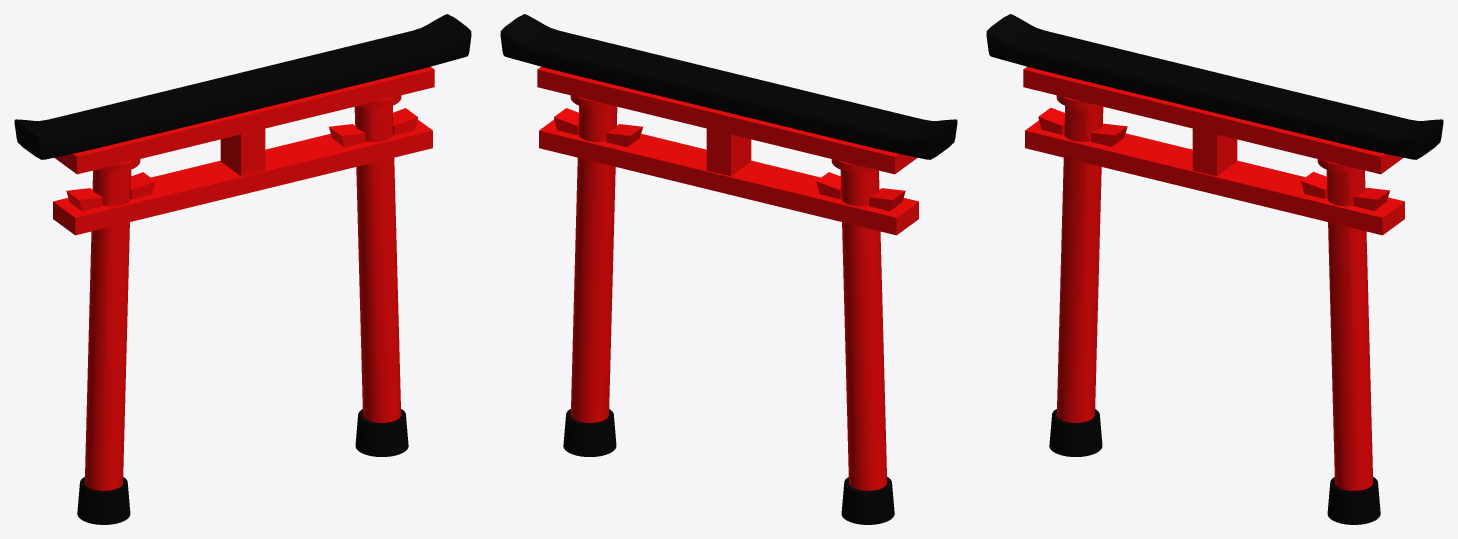
File: torii.obj
3 views of the same model, side by side, from view 1: azimuth 30°, elevation 25°; view 2: azimuth 150°, elevation 25°; view 3: azimuth 330°, elevation 25° (orthographic).
Parts seen in each view (by area): view 1: 立方体.012_立方体.011; view 2: 立方体.012_立方体.011; view 3: 立方体.012_立方体.011.
Boxes of the visible parts, x1=… form: 立方体.012_立方体.011: x1=14, y1=14, x2=471, y2=524; 立方体.012_立方体.011: x1=500, y1=14, x2=957, y2=524; 立方体.012_立方体.011: x1=986, y1=14, x2=1443, y2=524.
Bounding box in the file's own units: 4.18 × 3.72 × 0.4656.
